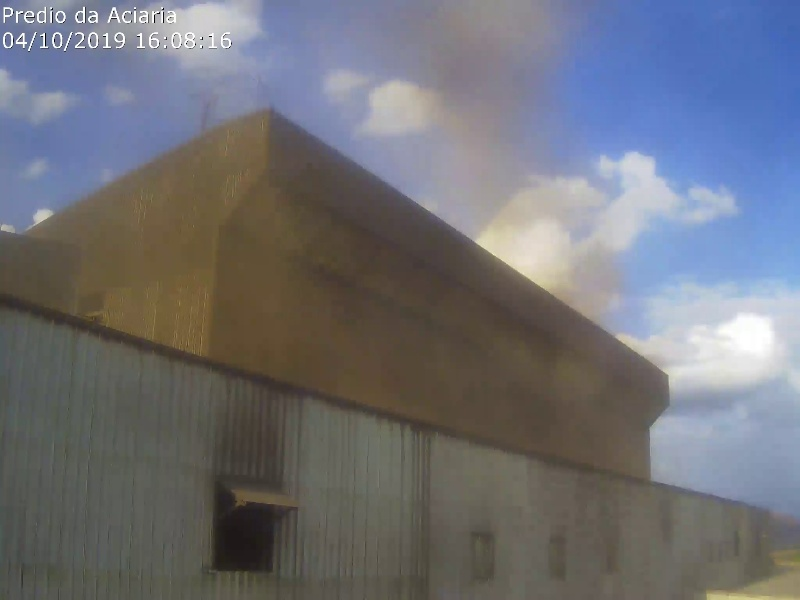pessimo: (240, 245, 574, 450)
ruim: (293, 11, 597, 243)
